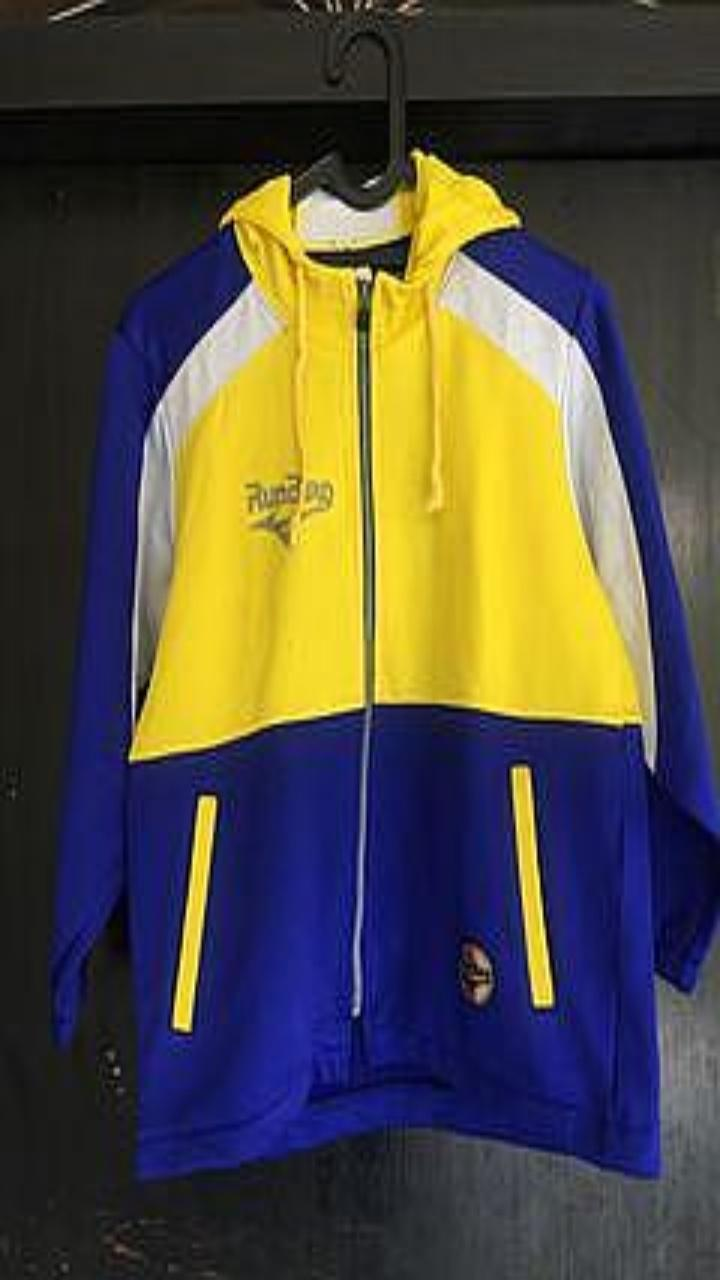Sports_Jacket: (52, 148, 719, 1178)
